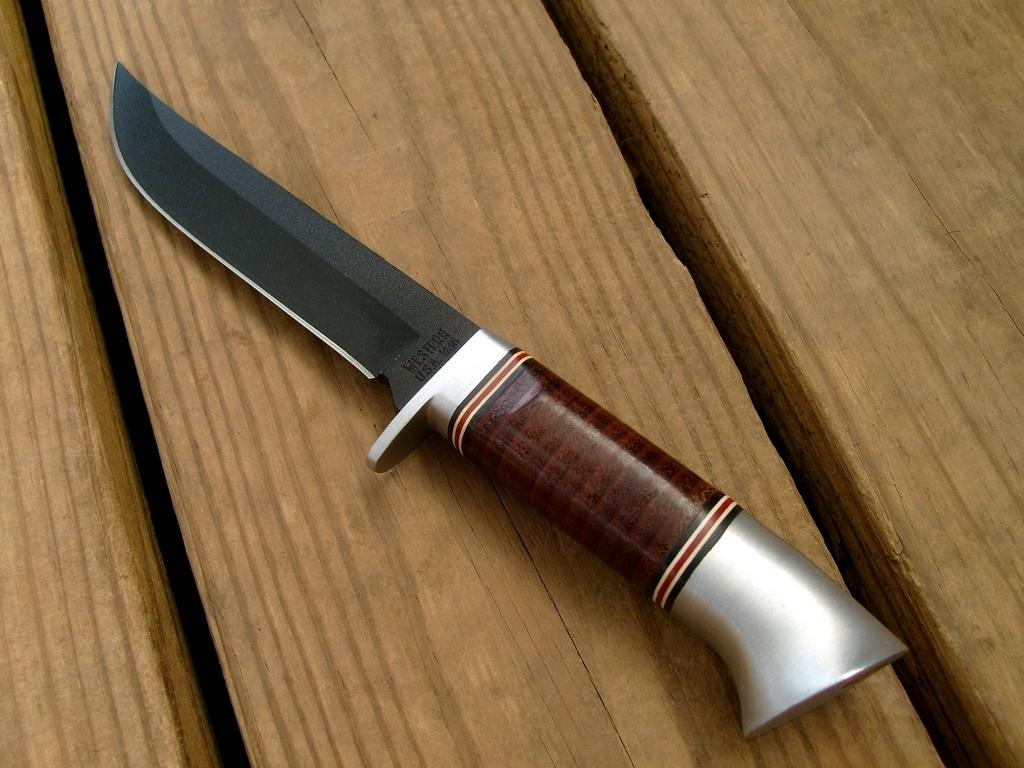Knife: (107, 58, 912, 744)
